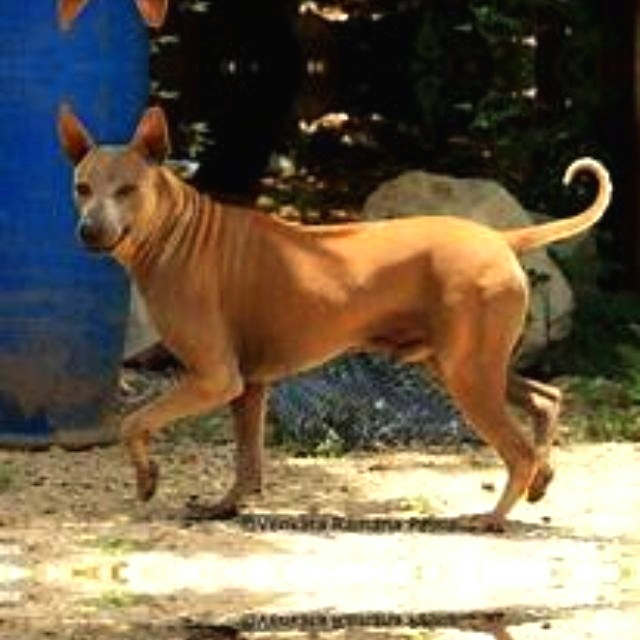dog: (39, 119, 619, 570), (39, 575, 619, 640), (39, 0, 619, 13)
